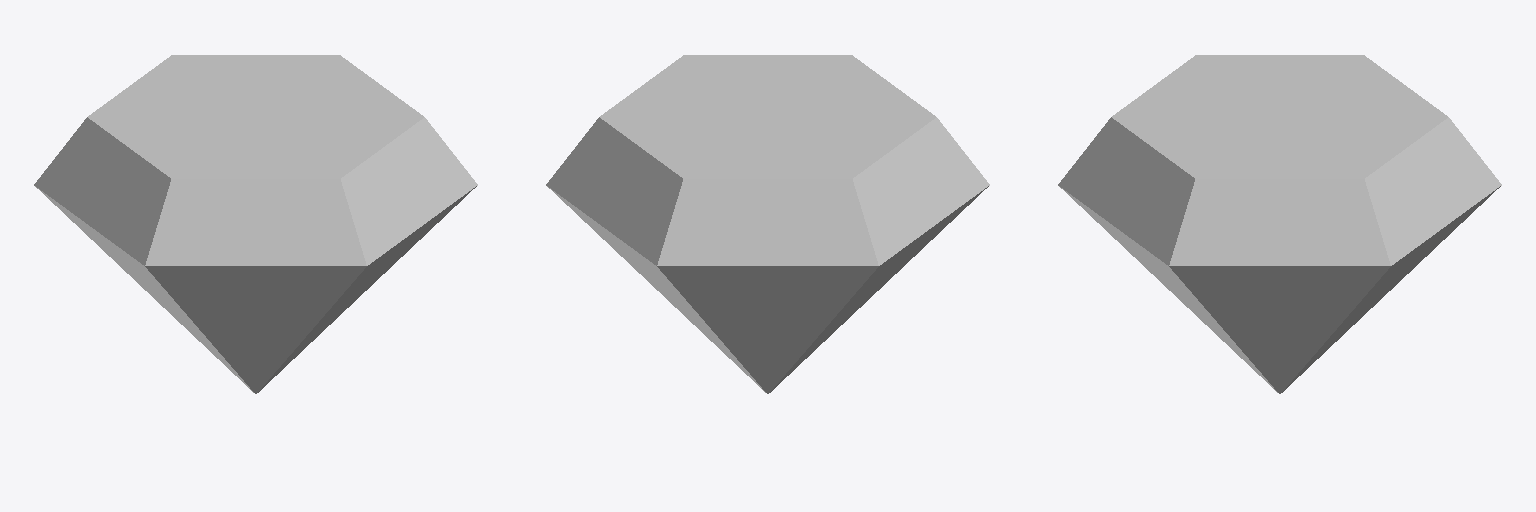
The model's file is dimond_yellow.obj.
The picture shows the model from 3 angles: view 1: azimuth 30°, elevation 25°; view 2: azimuth 150°, elevation 25°; view 3: azimuth 270°, elevation 25°; orthographic projection.
Parts seen in each view (by area): view 1: dimond_yellow_Cylinder.018; view 2: dimond_yellow_Cylinder.018; view 3: dimond_yellow_Cylinder.018.
Boxes of the visible parts, box(x1,y1,x2,y2) form: dimond_yellow_Cylinder.018: box(34, 55, 477, 393); dimond_yellow_Cylinder.018: box(546, 55, 989, 393); dimond_yellow_Cylinder.018: box(1058, 55, 1501, 393).
Size of the model in its own units: 0.1496 by 0.1192 by 0.1728.